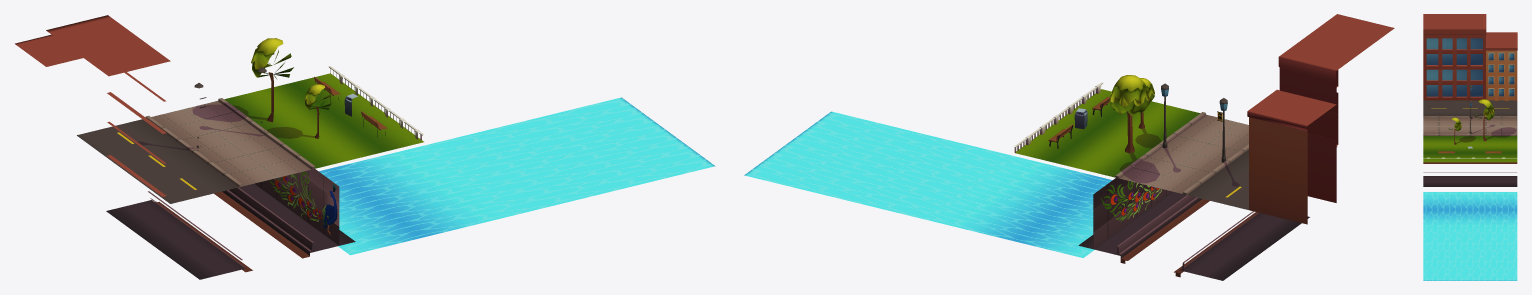
The model's file is 1.100_SanFrancisco_pillars_mid.glb.
3 renders of one model, left to right at view 1: azimuth 30°, elevation 25°; view 2: azimuth 150°, elevation 25°; view 3: azimuth 270°, elevation 25°, orthographic. The views are drawn at different scales.
Parts seen in each view (by area): view 1: 1.100_SanFrancisco_pillars_mid; view 2: 1.100_SanFrancisco_pillars_mid; view 3: 1.100_SanFrancisco_pillars_mid.
Part boxes in pixels (x1=…): 1.100_SanFrancisco_pillars_mid: x1=15, y1=15, x2=715, y2=279; 1.100_SanFrancisco_pillars_mid: x1=744, y1=14, x2=1394, y2=280; 1.100_SanFrancisco_pillars_mid: x1=1423, y1=14, x2=1517, y2=280.
Bounding box in the file's own units: 671 × 251 × 181.
Materials: 4 (4 with a texture image).
